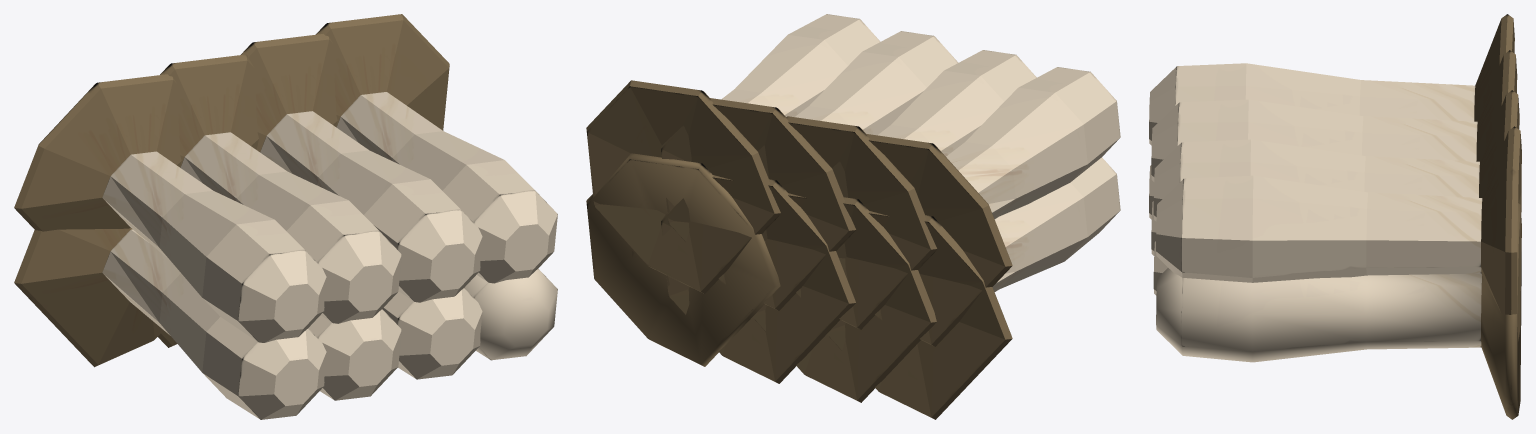
The model's file is Mushrooms.FBX.
3 renders of one model, left to right at view 1: azimuth 30°, elevation 25°; view 2: azimuth 150°, elevation 25°; view 3: azimuth 270°, elevation 25°, orthographic. The views are drawn at different scales.
Visible parts, largest first — view 1: 버섯; view 2: 버섯; view 3: 버섯.
Boxes of the visible parts, left/top/right/bottom form: 버섯: left=14, top=14, right=557, bottom=419; 버섯: left=586, top=14, right=1120, bottom=419; 버섯: left=1149, top=14, right=1521, bottom=419.
Bounding box in the file's own units: 24.2 × 15.02 × 18.13.
